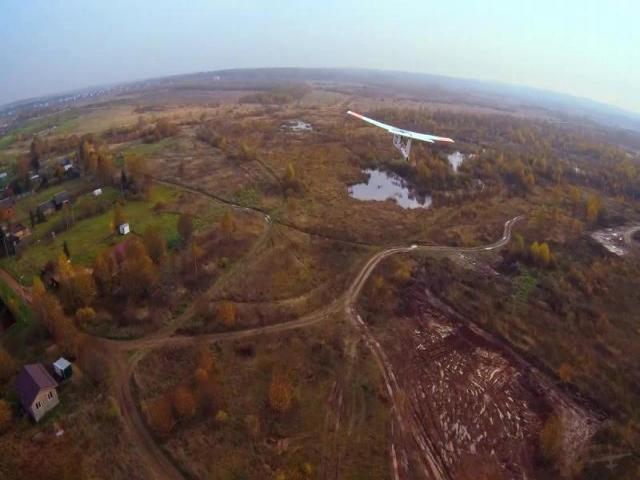hedef: (338, 102, 457, 169)
